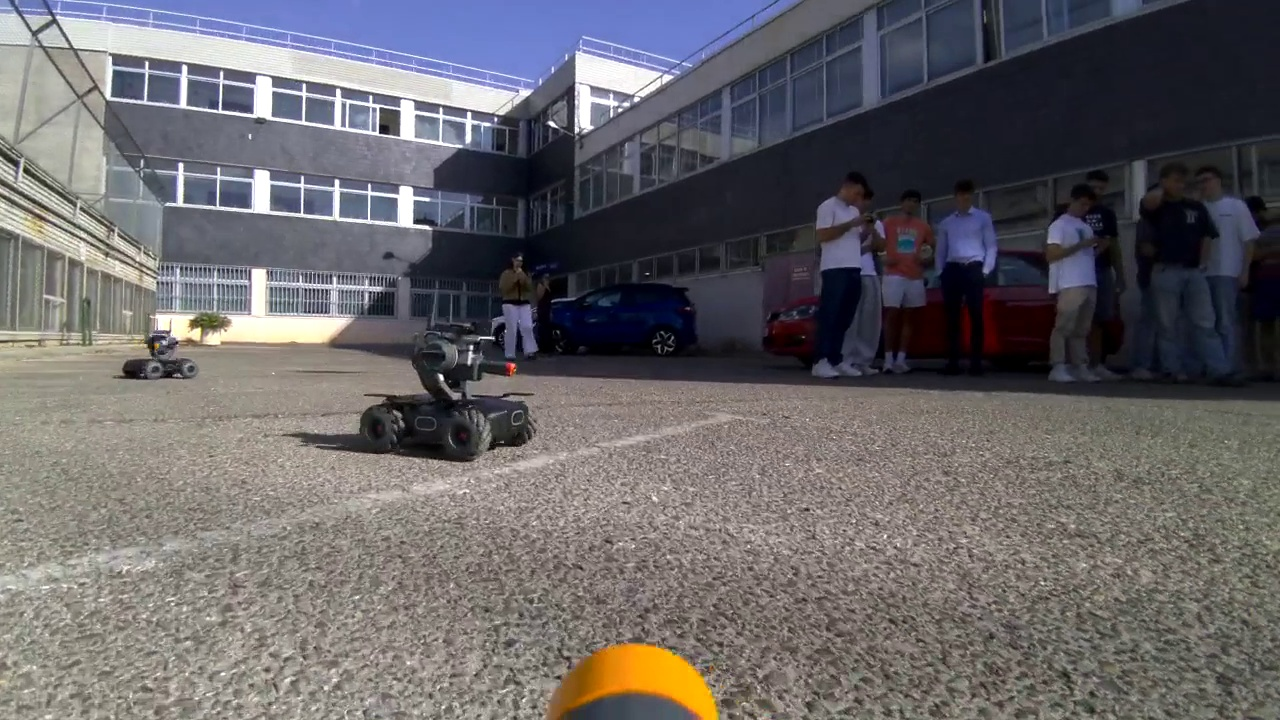robot: (346, 311, 537, 463), (119, 325, 199, 382)
